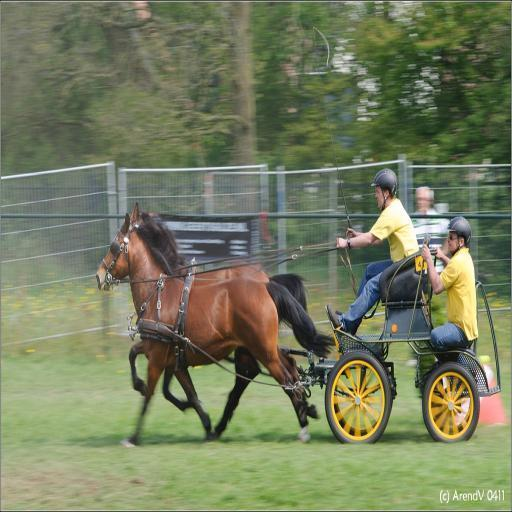horse: (98, 210, 338, 452), (130, 202, 310, 438)
